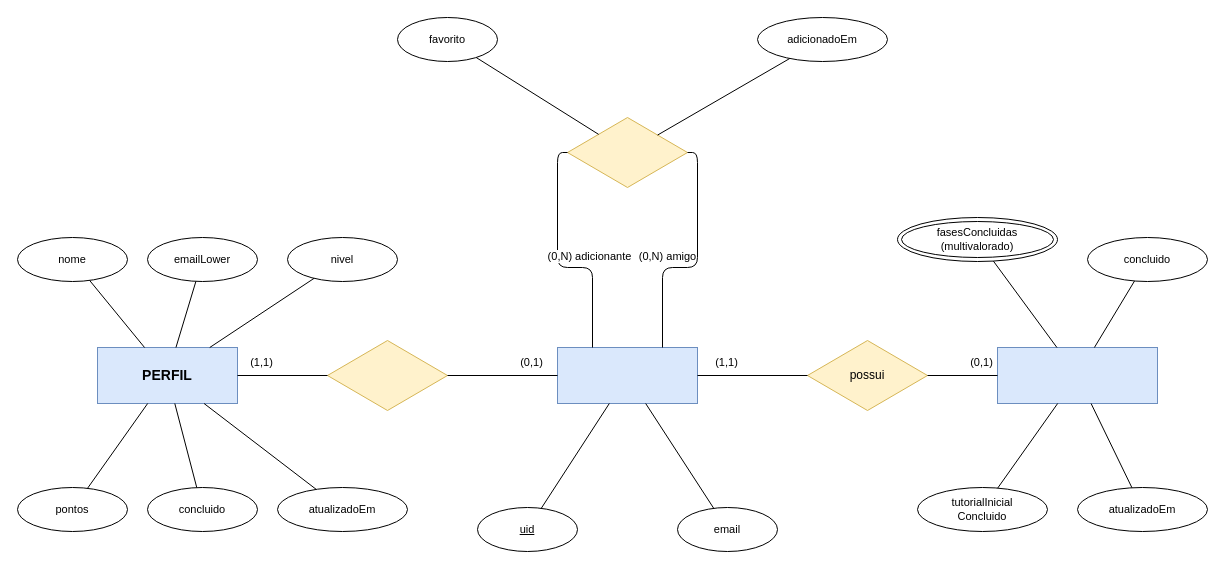
This 1225x569 diagram has some shape labels left out. Here are the shapes that lost their labels. From the top down, the centre of each, then its label:
At (627,152): "adiciona".
At (387,375): "publica".
At (627,375): "USUÁRIO".
At (1077,375): "PROGRESSO".
